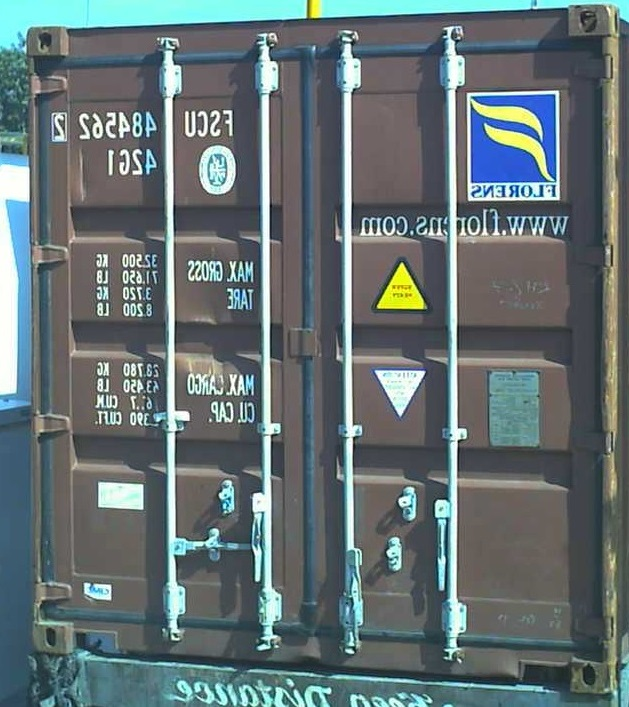container_door: (35, 5, 617, 667)
